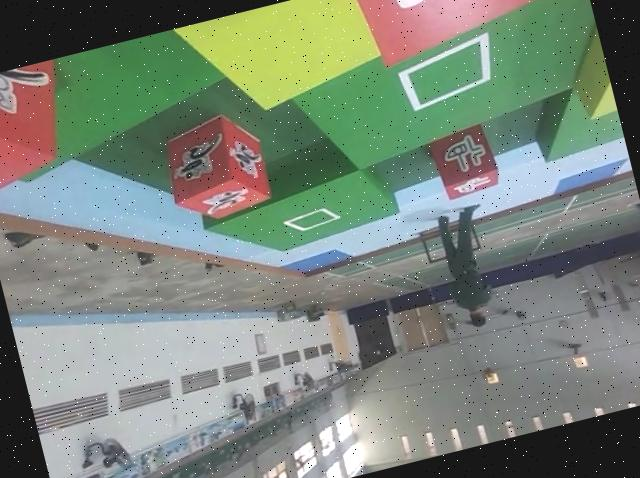R1: (157, 107, 277, 229), (0, 58, 87, 205)
R2 Real: (424, 118, 505, 205)
